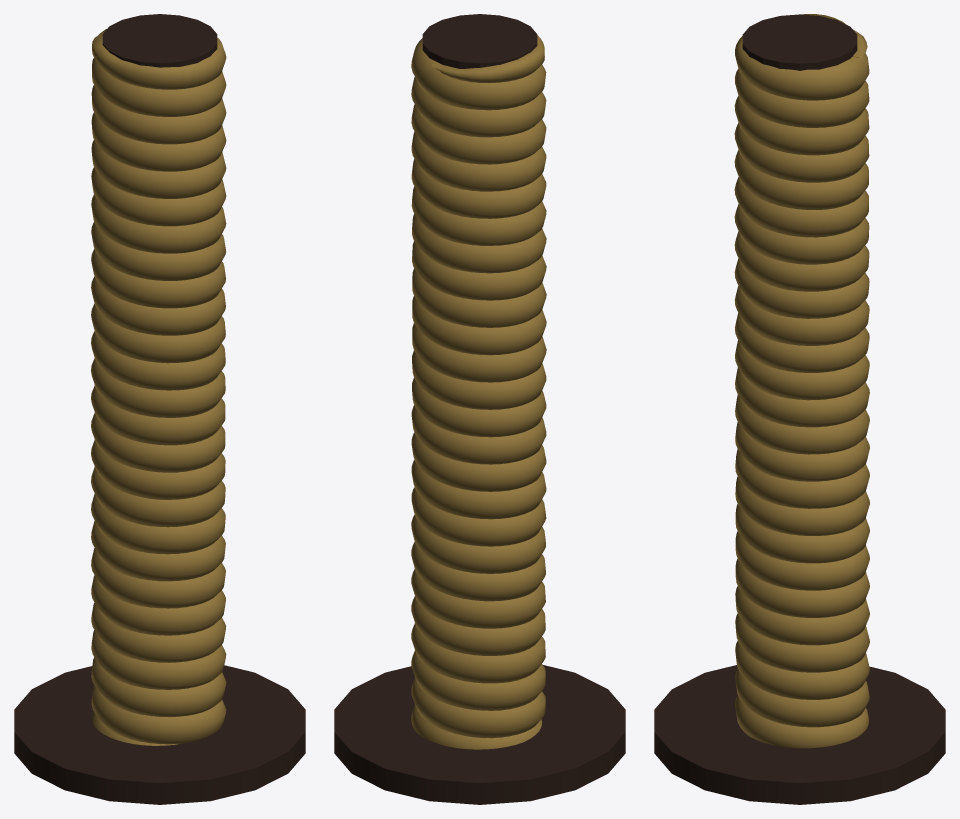
File: drapak.fbx
3 renders of one model, left to right at view 1: azimuth 30°, elevation 25°; view 2: azimuth 150°, elevation 25°; view 3: azimuth 270°, elevation 25°, orthographic.
Parts seen in each view (by area): view 1: Helix001, drapak; view 2: Helix001, drapak; view 3: Helix001, drapak.
Boxes of the visible parts, box(x1,y1,x2,y2) form: Helix001: box(91, 29, 226, 745); drapak: box(14, 14, 305, 804); Helix001: box(411, 35, 546, 749); drapak: box(334, 14, 625, 804); Helix001: box(734, 14, 869, 748); drapak: box(654, 14, 945, 804).
Bounding box in the file's own units: 8.33 × 22.41 × 8.2.
